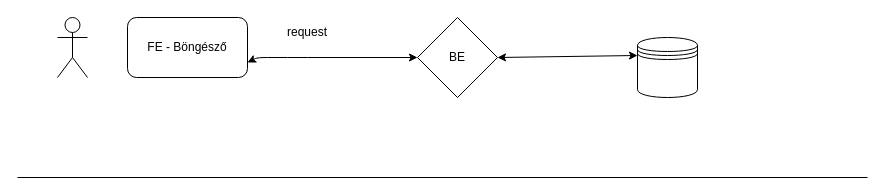
The diagram is 886 pixels wide and 196 high, and some of its shapes have lost their labels. Each missing label, with the centre of its shape:
"Actor" belongs at point 72,47.
"DB" belongs at point 667,67.
